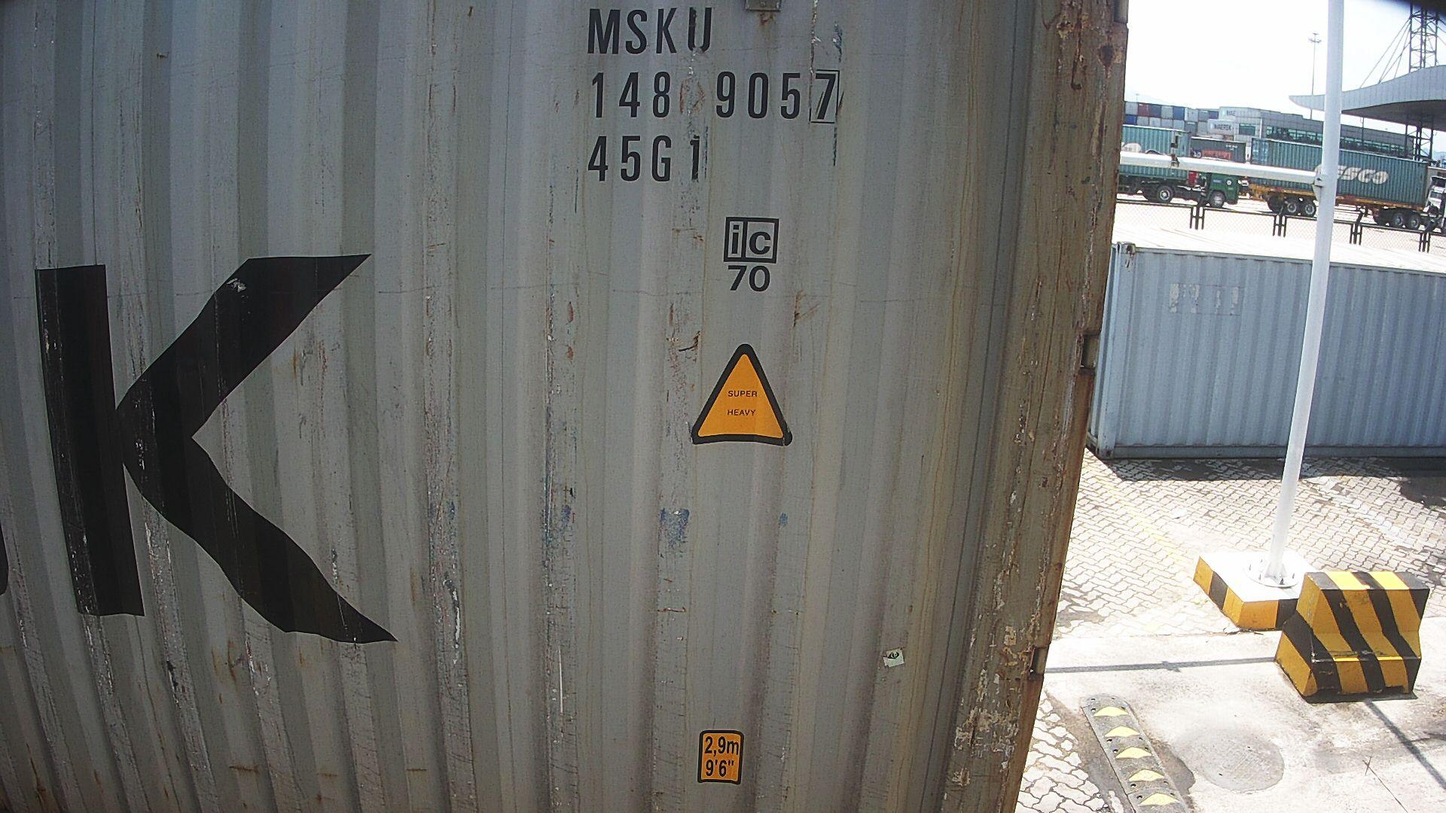container-numbers: (585, 65, 844, 127), (583, 4, 716, 59), (585, 130, 710, 187)
